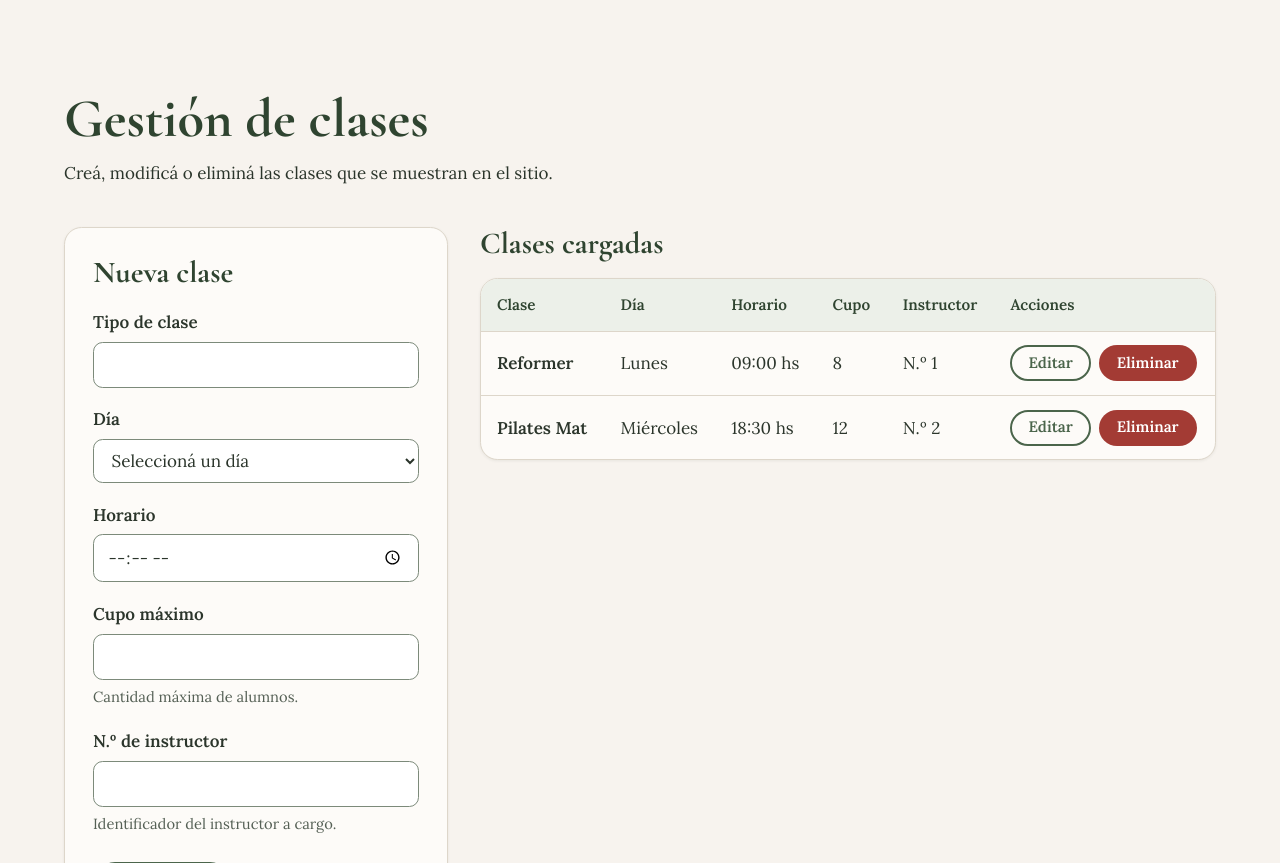
Test: AdminClasesPage › pide confirmación antes de eliminar y no elimina si se cancela
The width and height of the screenshot is (1280, 863).
Expected: the table is shown, left=481, top=279, right=1215, bottom=459
Click the button with aria-label "Eliminar Reformer".
click(1148, 363)  # box left=1099, top=345, right=1197, bottom=381
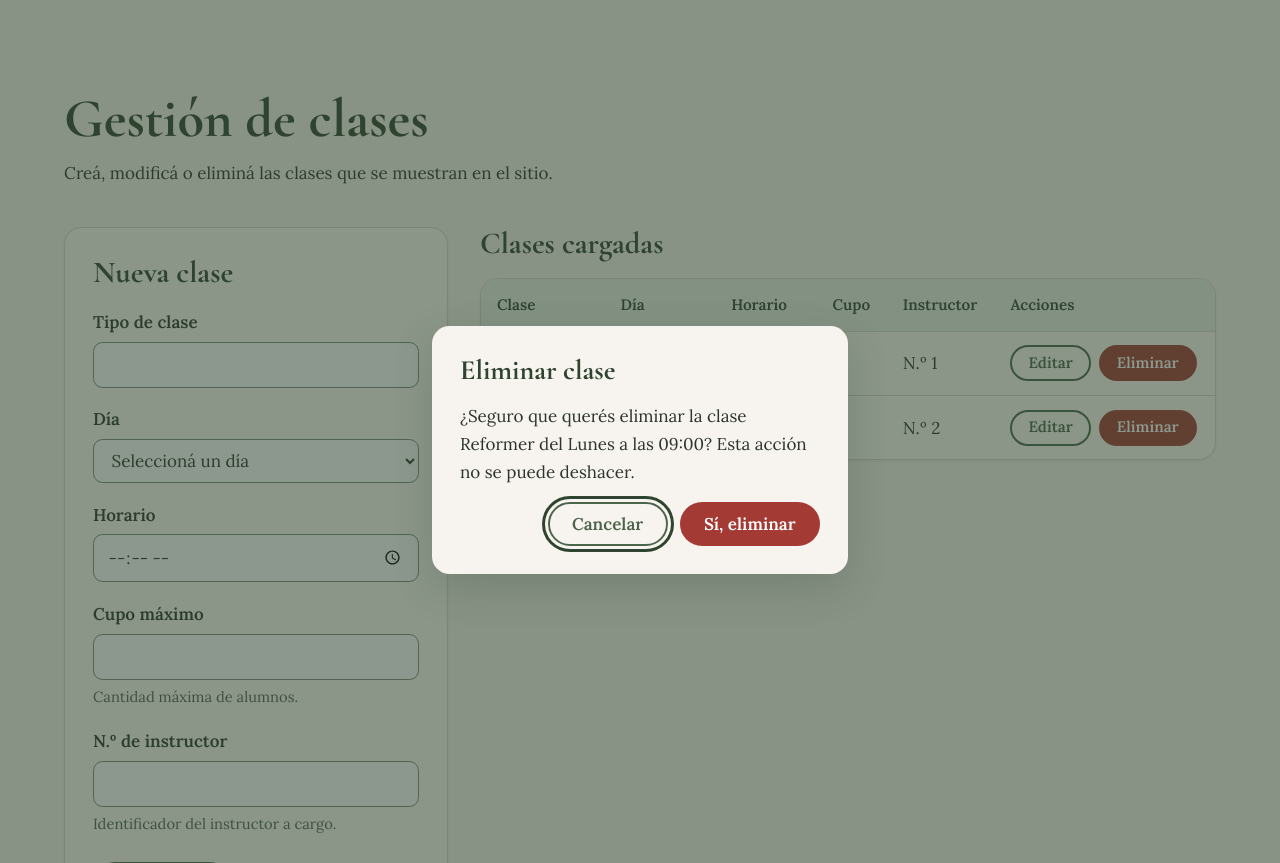
Now the dialog "Eliminar clase" shows "¿Seguro que querés eliminar la clase Reformer", box left=460, top=405, right=807, bottom=483
Click the button "Cancelar".
click(608, 524)  # box left=548, top=502, right=668, bottom=546
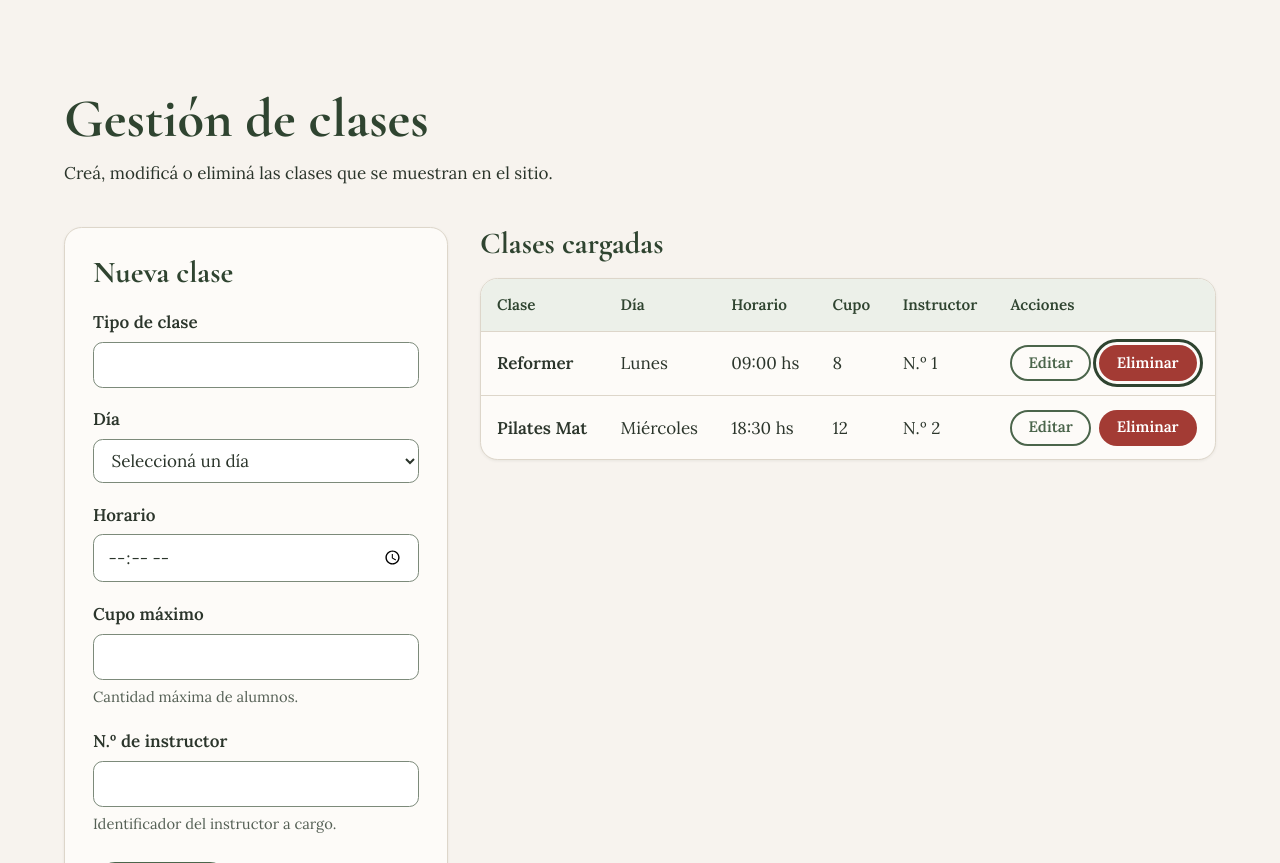
Expected: the column heading "Reformer" is shown, left=481, top=332, right=604, bottom=396
Now the dialog is gone
